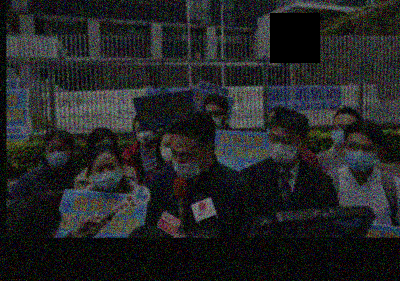with_mask: (170, 144, 204, 181), (343, 140, 377, 172), (267, 131, 299, 164), (91, 159, 123, 191), (332, 121, 356, 150), (45, 142, 69, 166), (205, 107, 225, 128), (135, 125, 153, 145), (159, 139, 172, 163)
